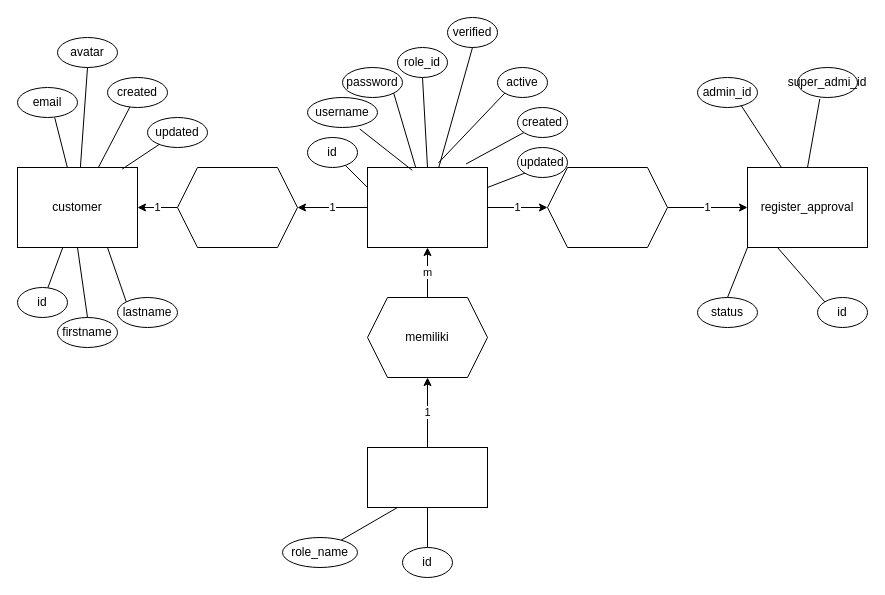
This 885x595 diagram has some shape labels left out. The centre of each missing label's shape, as x and y in pixels:
"actors" belongs at [427,207].
"mengunakan" belongs at [607,207].
"menjadi" belongs at [237,207].
"role" belongs at [427,477].
